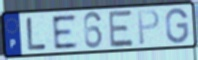6: (82, 10, 104, 50)
E: (50, 13, 80, 51), (108, 9, 135, 49)
G: (165, 7, 190, 45)
L: (25, 16, 48, 52)
P: (136, 8, 161, 47)
